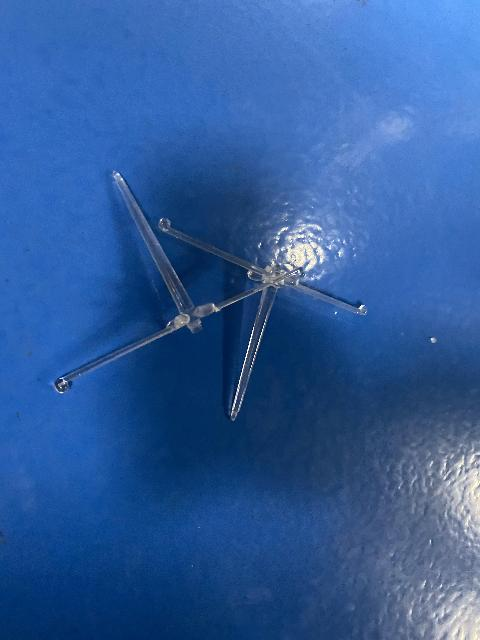Plastik: (57, 173, 302, 395), (160, 213, 371, 416)
